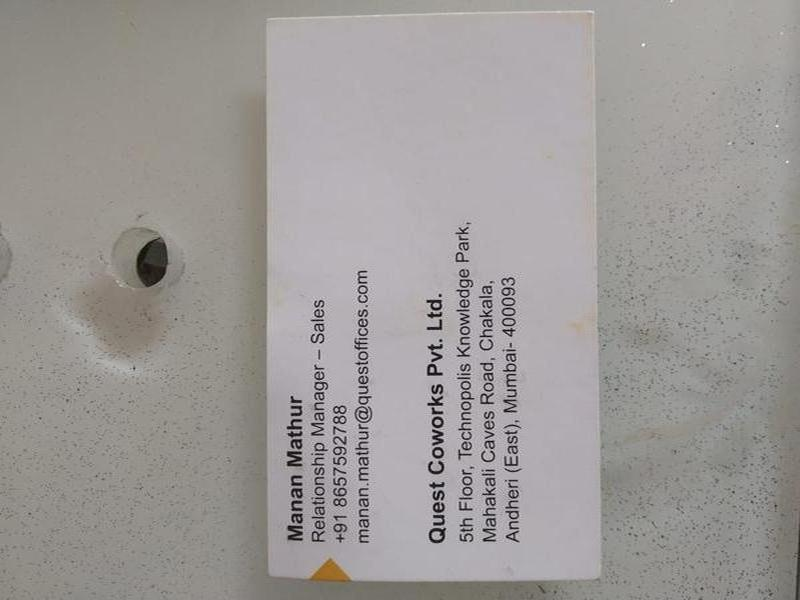card: (262, 14, 605, 585)
